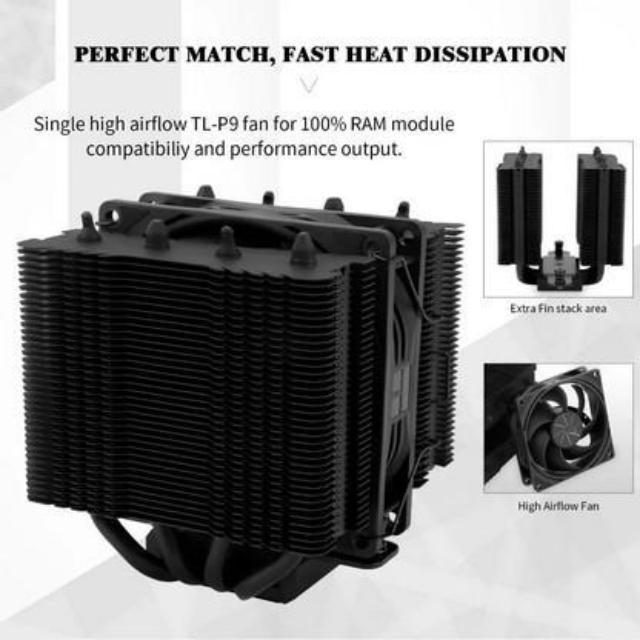CPU_Fan: (16, 177, 462, 612), (488, 140, 637, 308)
